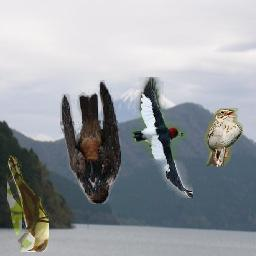Cuckoo: (7, 156, 49, 253)
Sparrow: (205, 109, 244, 168)
Swallow: (61, 80, 122, 204)
Woodpecker: (131, 78, 193, 199)
